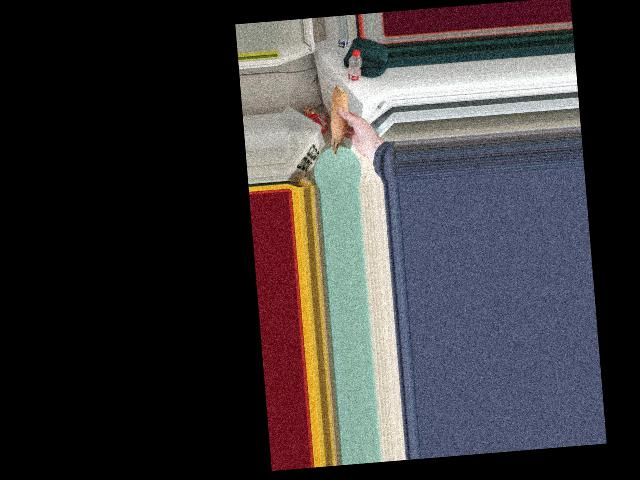sweet_potato: (325, 82, 349, 159)
